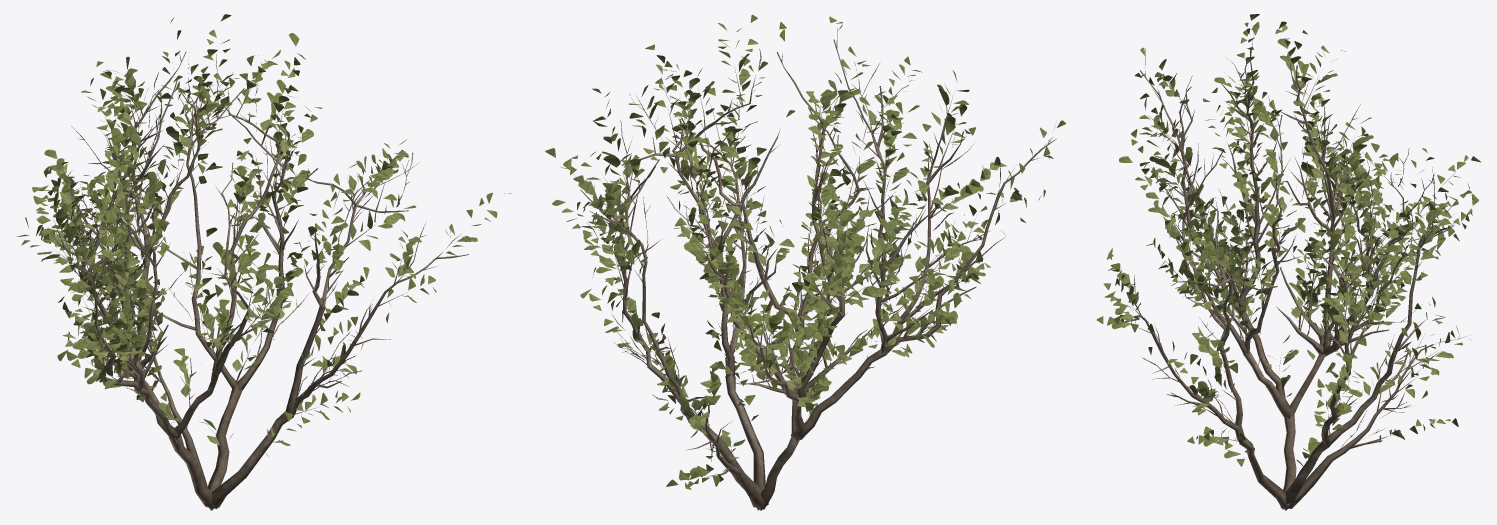
File: ph-searsia-lucida-c.lod1.glb
The picture shows the model from 3 angles, left to right: view 1: azimuth 30°, elevation 25°; view 2: azimuth 150°, elevation 25°; view 3: azimuth 270°, elevation 25°; orthographic projection. The views are drawn at different scales.
Visible parts, largest first — view 1: searsia_lucida_c_LOD0; view 2: searsia_lucida_c_LOD0; view 3: searsia_lucida_c_LOD0.
Part boxes in pixels (x1=…): searsia_lucida_c_LOD0: x1=17, y1=14, x2=511, y2=510; searsia_lucida_c_LOD0: x1=545, y1=14, x2=1065, y2=510; searsia_lucida_c_LOD0: x1=1096, y1=14, x2=1480, y2=510.
Bounding box in the file's own units: 1.5 × 1.63 × 1.23.
Materials: 2 (2 with a texture image).
